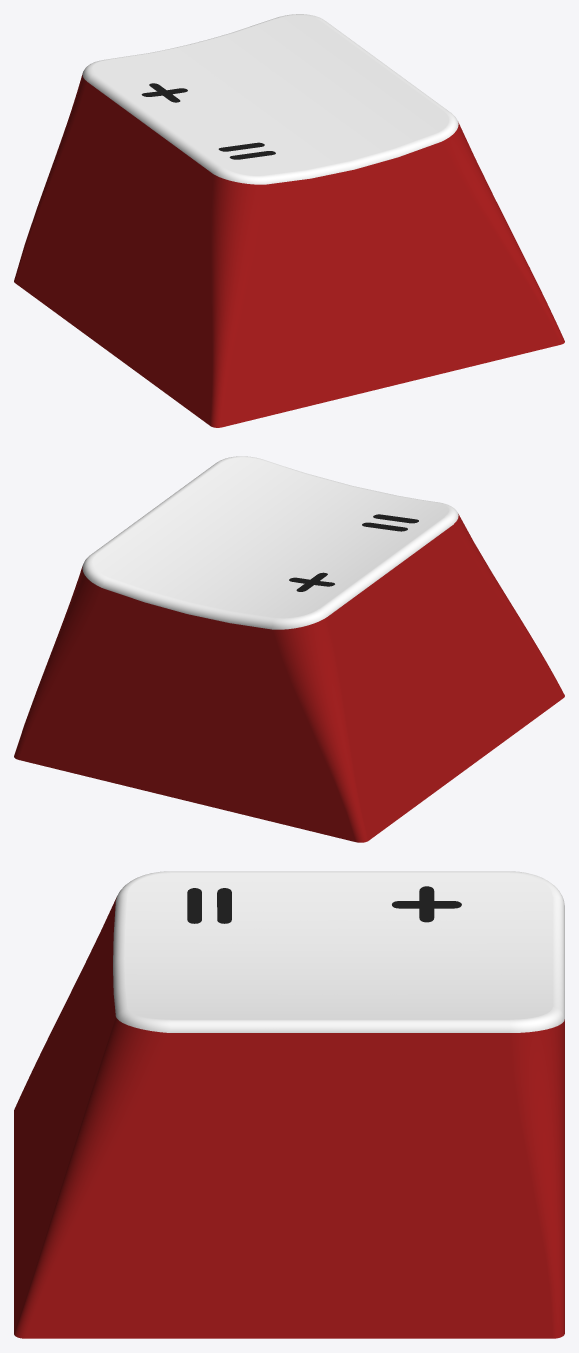
The picture shows the model from 3 angles, top to bottom: view 1: azimuth 30°, elevation 25°; view 2: azimuth 150°, elevation 25°; view 3: azimuth 270°, elevation 25°; orthographic projection. The views are drawn at different scales.
Visible parts, largest first — view 1: Body1; view 2: Body1; view 3: Body1.
Boxes of the visible parts, x1,y1,x2,y2 form: Body1: [14, 14, 564, 427]; Body1: [14, 456, 564, 842]; Body1: [14, 871, 564, 1338].
Bounding box in the file's own units: 18 × 9.95 × 18.
